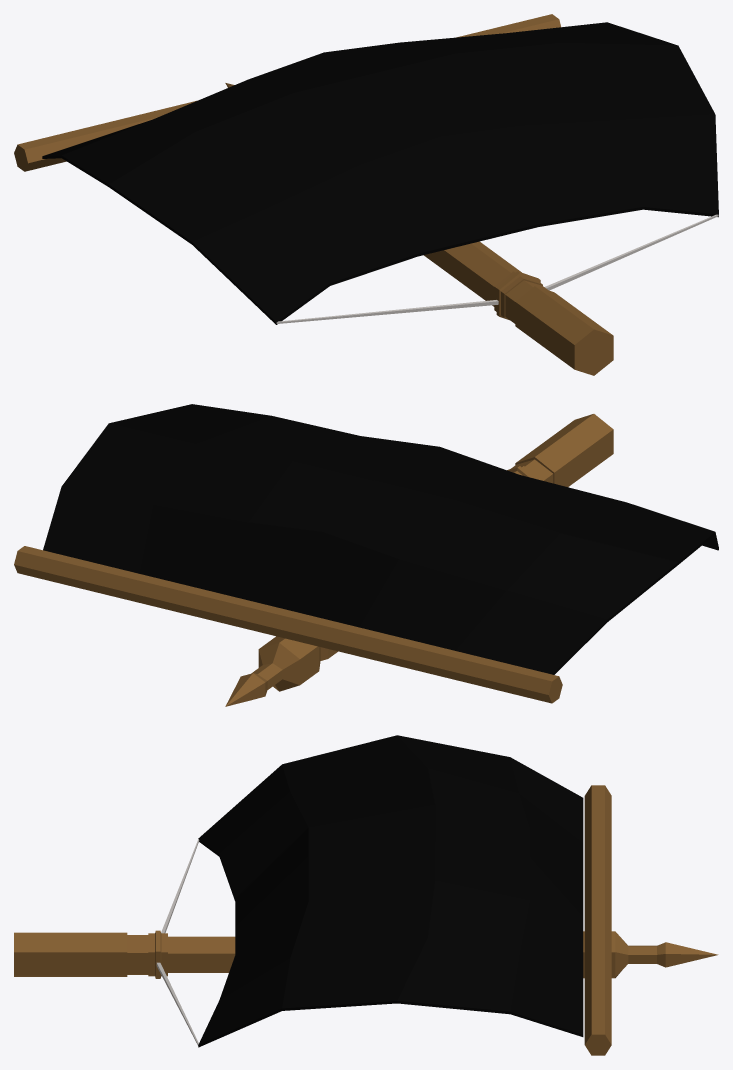
The model's file is ship_mast_3.fbx.
3 renders of one model, top to bottom at view 1: azimuth 30°, elevation 25°; view 2: azimuth 150°, elevation 25°; view 3: azimuth 270°, elevation 25°, orthographic. The views are drawn at different scales.
Visible parts, largest first — view 1: Cube.020; view 2: Cube.020; view 3: Cube.020.
Part boxes in pixels (left/top/right/bottom): Cube.020: left=14, top=14, right=718, bottom=375; Cube.020: left=14, top=404, right=718, bottom=706; Cube.020: left=14, top=735, right=718, bottom=1055.
Bounding box in the file's own units: 136 × 32.69 × 153.
